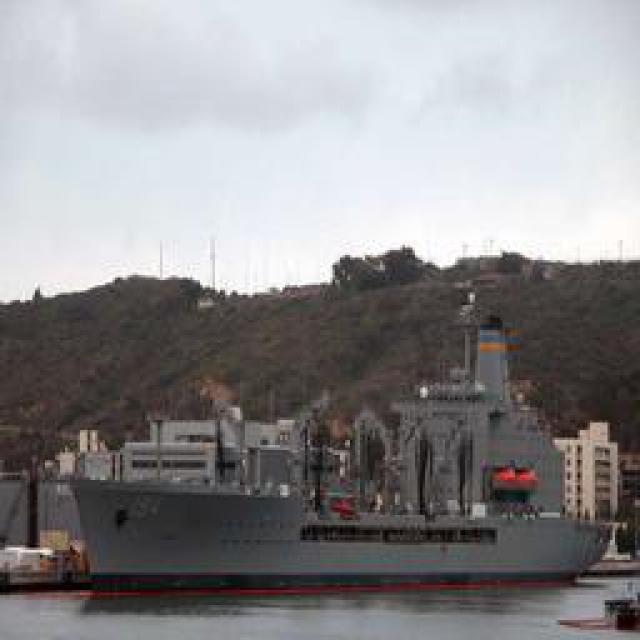Ship: (40, 458, 625, 596)
